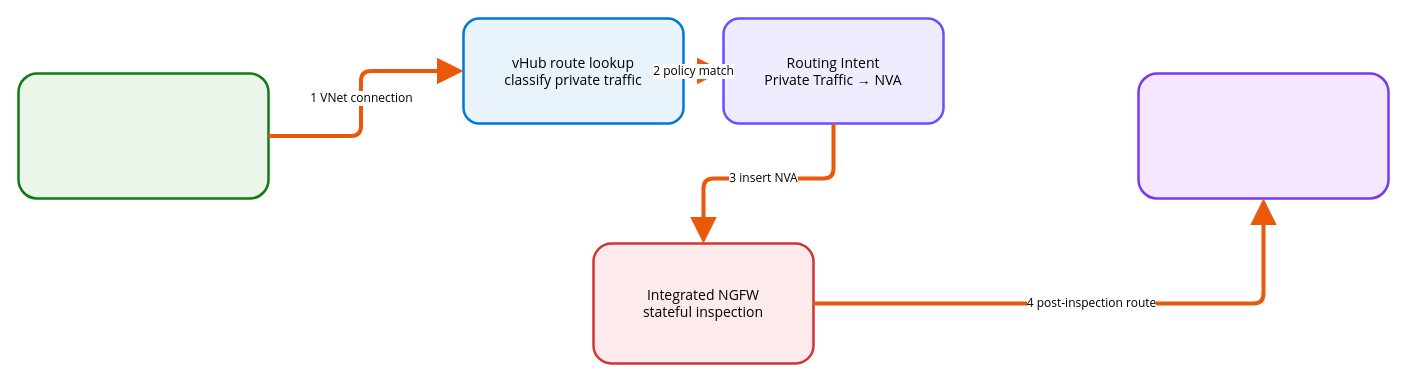
This 1407x382 diagram has some shape labels left out. The shapes that lost their labels are listed below. From the top down, each one's centre as x and y in pixels, then its label:
At (143,135): "Spoke B / VM-B 10.20.1.4".
At (1263,135): "Spoke A / VM-A 10.10.1.4".
